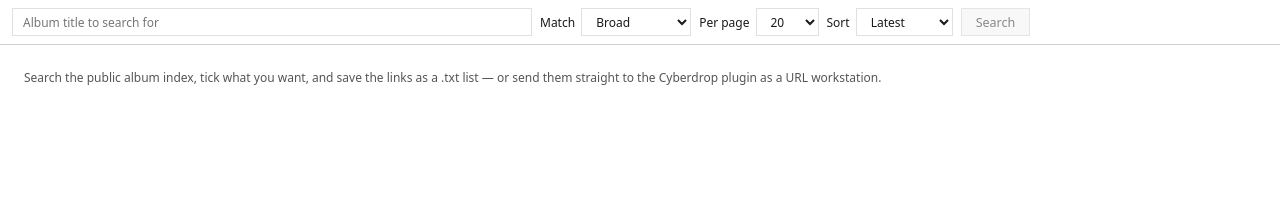
Scenario: BunkrView › searches with the chosen options and lists what comes back
The width and height of the screenshot is (1280, 217).
Type "test" into the field named "Search albums" at coordinates (272, 22), box [12,8,532,36]
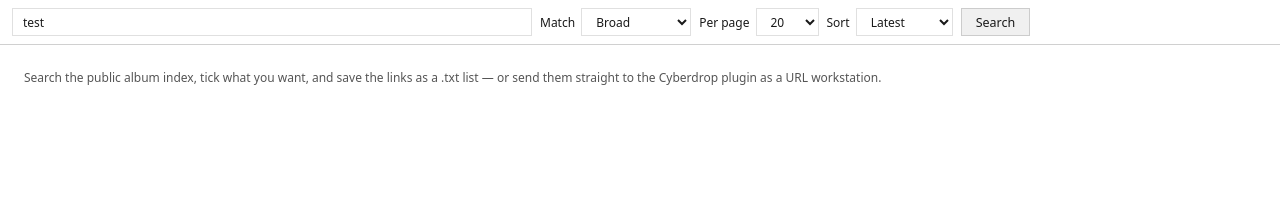
Click the button "Search" at coordinates (995, 22), box [961,8,1030,36]
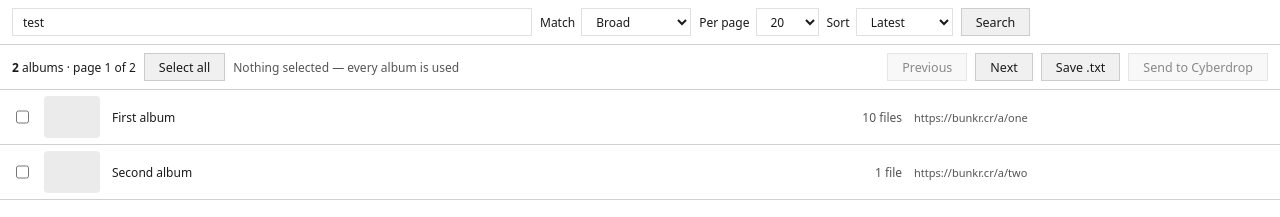
Expected: the text "First album" is shown, [112,108,175,126]
Expected: the text "10 files" is shown, [862,108,902,126]
Expected: the text "1 file" is shown, [875,164,902,180]
